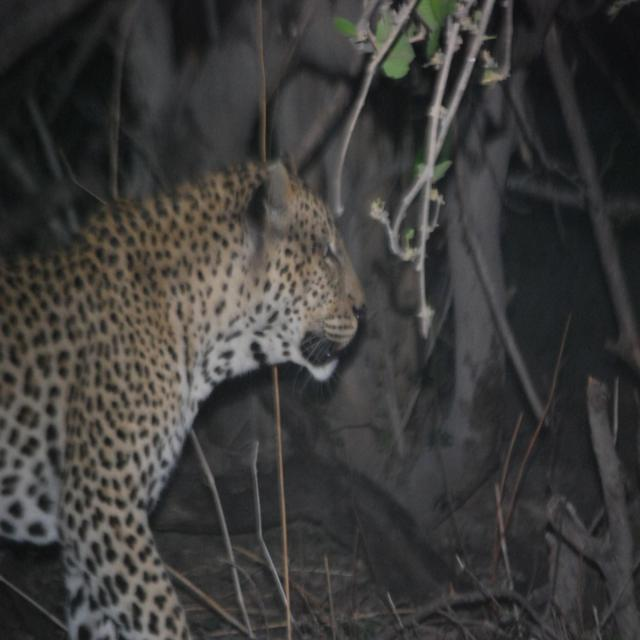Leopard: (8, 159, 366, 640)
